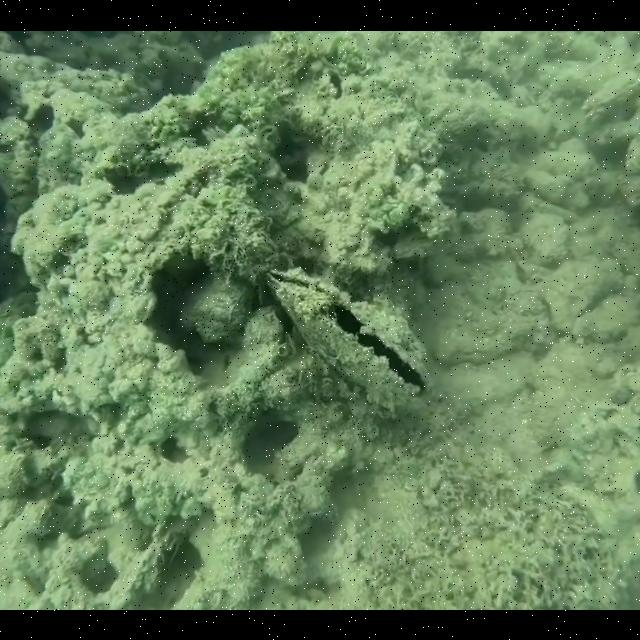Oyster-Open: (265, 267, 433, 411)
